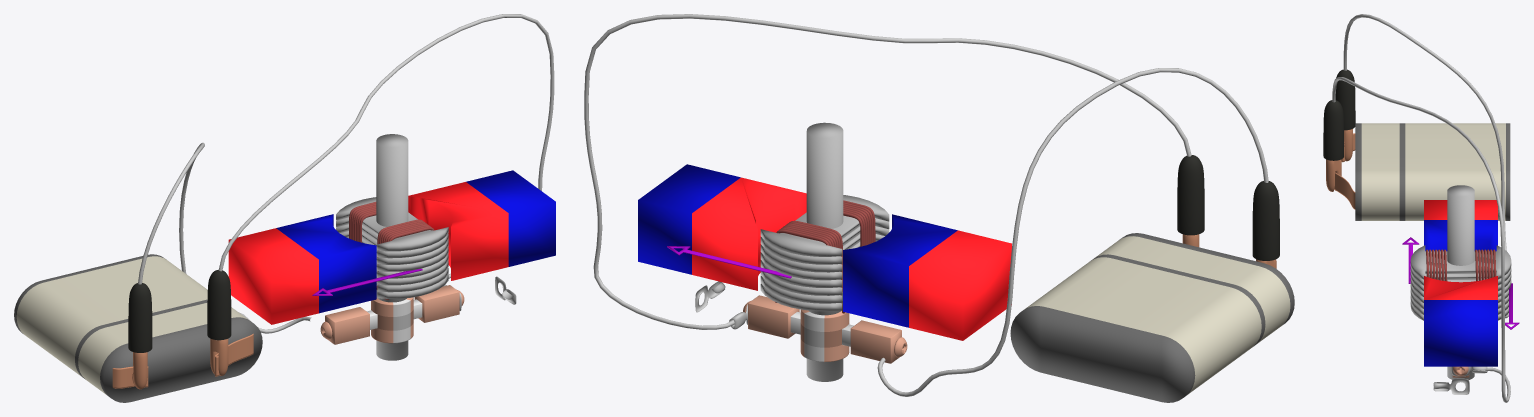
Rendered from mot.glb.
3 renders of one model, left to right at view 1: azimuth 30°, elevation 25°; view 2: azimuth 150°, elevation 25°; view 3: azimuth 270°, elevation 25°, orthographic. The views are drawn at different scales.
Parts seen in each view (by area): view 1: Cylinder.0070, Cylinder.001, Cylinder.007, Cylinder0, Cube.005, Cylinder, Cube.0050, Mesh.006, Cube.002, klemm.001, klemm, Mesh.007 (+6 smaller); view 2: Cylinder.0070, Cylinder.007, Cylinder.001, Cylinder0, Cube.005, Cylinder, Cube.0050, Mesh.006, Mesh.007, Cube.002, klemm.001, klemm (+3 smaller); view 3: Cylinder.0070, Cylinder.001, Cube.0050, Mesh.006, Cylinder.007, Cube.005, Cylinder, Mesh.007, Cylinder.0012, klemm.001, Cylinder0, klemm (+6 smaller).
Part boxes in pixels (x1,y1,x2,y2): Cylinder.0070: (16,256,249,394); Cylinder.001: (336,134,448,360); Cylinder.007: (14,254,262,402); Cylinder0: (228,228,318,324); Cube.005: (408,182,508,280); Cylinder: (276,214,376,313); Cube.0050: (466,170,555,266); Mesh.006: (218,14,554,278); Cube.002: (325,285,459,344); klemm.001: (207,270,231,340); klemm: (128,283,152,352); Mesh.007: (138,142,311,333); Cylinder.0070: (1024,236,1290,394); Cylinder.007: (1010,233,1294,402); Cylinder.001: (760,122,889,381); Cylinder0: (909,230,1011,340); Cube.005: (692,177,806,290); Cylinder: (843,214,957,327); Cube.0050: (638,164,740,274); Mesh.006: (584,14,1191,329); Mesh.007: (877,68,1268,396); Cube.002: (748,295,901,363); klemm.001: (1177,155,1204,235); klemm: (1252,181,1279,260); Cylinder.0070: (1361,123,1505,220); Cylinder.001: (1410,185,1511,379); Cube.0050: (1424,300,1497,366); Mesh.006: (1332,77,1510,402); Cylinder.007: (1355,123,1510,220); Cube.005: (1424,276,1497,299); Cylinder: (1424,220,1497,251); Mesh.007: (1343,14,1508,318); Cylinder.0012: (1426,249,1496,281); klemm.001: (1323,100,1343,160); Cylinder0: (1424,200,1497,219); klemm: (1335,69,1355,130).
Size of the model in its own units: 0.0102 by 0.00547 by 0.00374.
